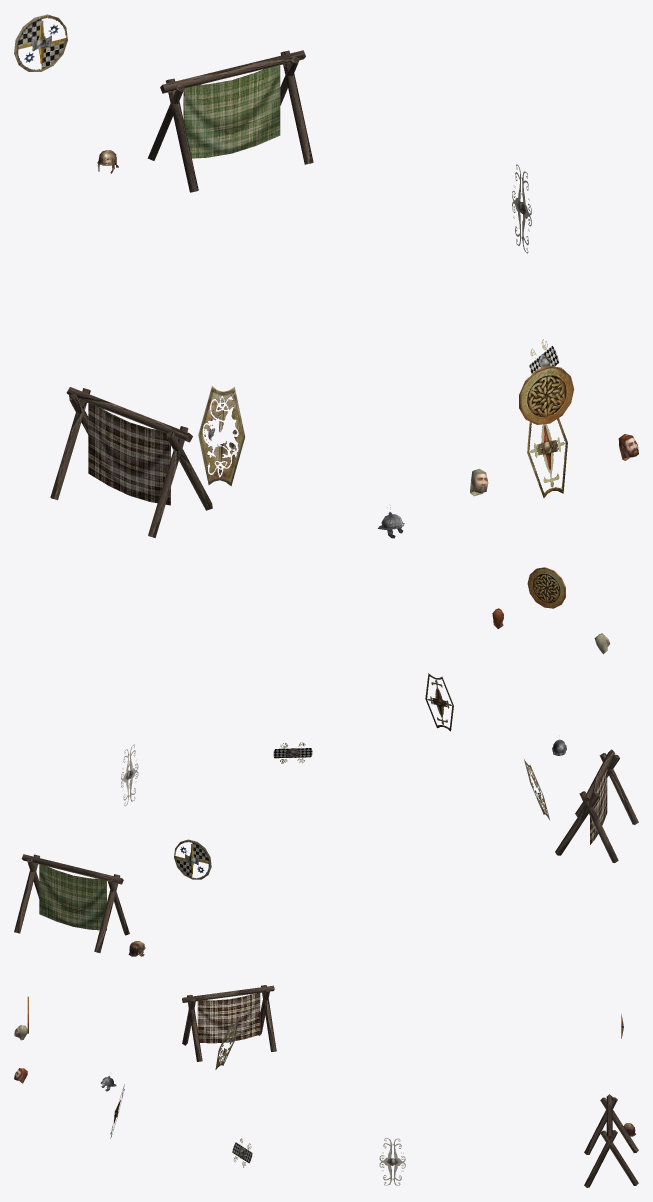
File: celt_cc_props_new.dae
The picture shows the model from 3 angles, top to bottom: view 1: azimuth 30°, elevation 25°; view 2: azimuth 150°, elevation 25°; view 3: azimuth 270°, elevation 25°; orthographic projection. The views are drawn at different scales.
Parts seen in each view (by area): view 1: celt_port_agen01-Pivot; view 2: celt_port_agen01-Pivot; view 3: celt_port_agen01-Pivot.
Boxes of the visible parts, <box> form: celt_port_agen01-Pivot: <box>14,14,638,538</box>; celt_port_agen01-Pivot: <box>14,567,638,956</box>; celt_port_agen01-Pivot: <box>14,985,638,1187</box>.
Size of the model in its own units: 18.54 by 29.05 by 6.19.
